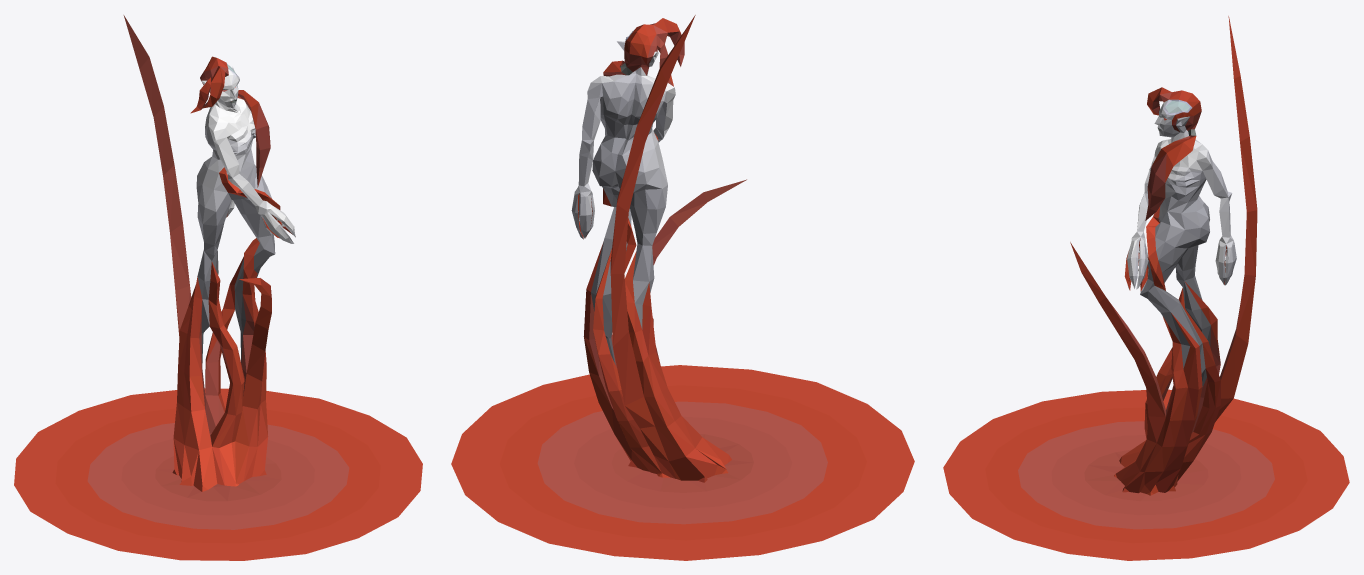
File: maiden.glb
3 views of the same model, side by side, from view 1: azimuth 30°, elevation 25°; view 2: azimuth 150°, elevation 25°; view 3: azimuth 270°, elevation 25° (orthographic). The views are drawn at different scales.
Visible parts, largest first — view 1: NPC_The_Maiden_of_Sugadinti__(level-324)_2022-10-20_15-30-23; view 2: NPC_The_Maiden_of_Sugadinti__(level-324)_2022-10-20_15-30-23; view 3: NPC_The_Maiden_of_Sugadinti__(level-324)_2022-10-20_15-30-23.
Boxes of the visible parts, bbox=[...] form: NPC_The_Maiden_of_Sugadinti__(level-324)_2022-10-20_15-30-23: bbox=[14, 15, 422, 560]; NPC_The_Maiden_of_Sugadinti__(level-324)_2022-10-20_15-30-23: bbox=[451, 15, 914, 560]; NPC_The_Maiden_of_Sugadinti__(level-324)_2022-10-20_15-30-23: bbox=[943, 16, 1349, 560].
Size of the model in its own units: 533 by 666 by 533.
